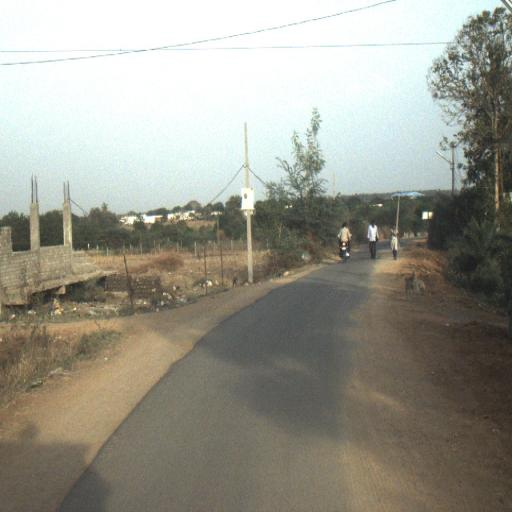street_light_0: (436, 148, 456, 172)
